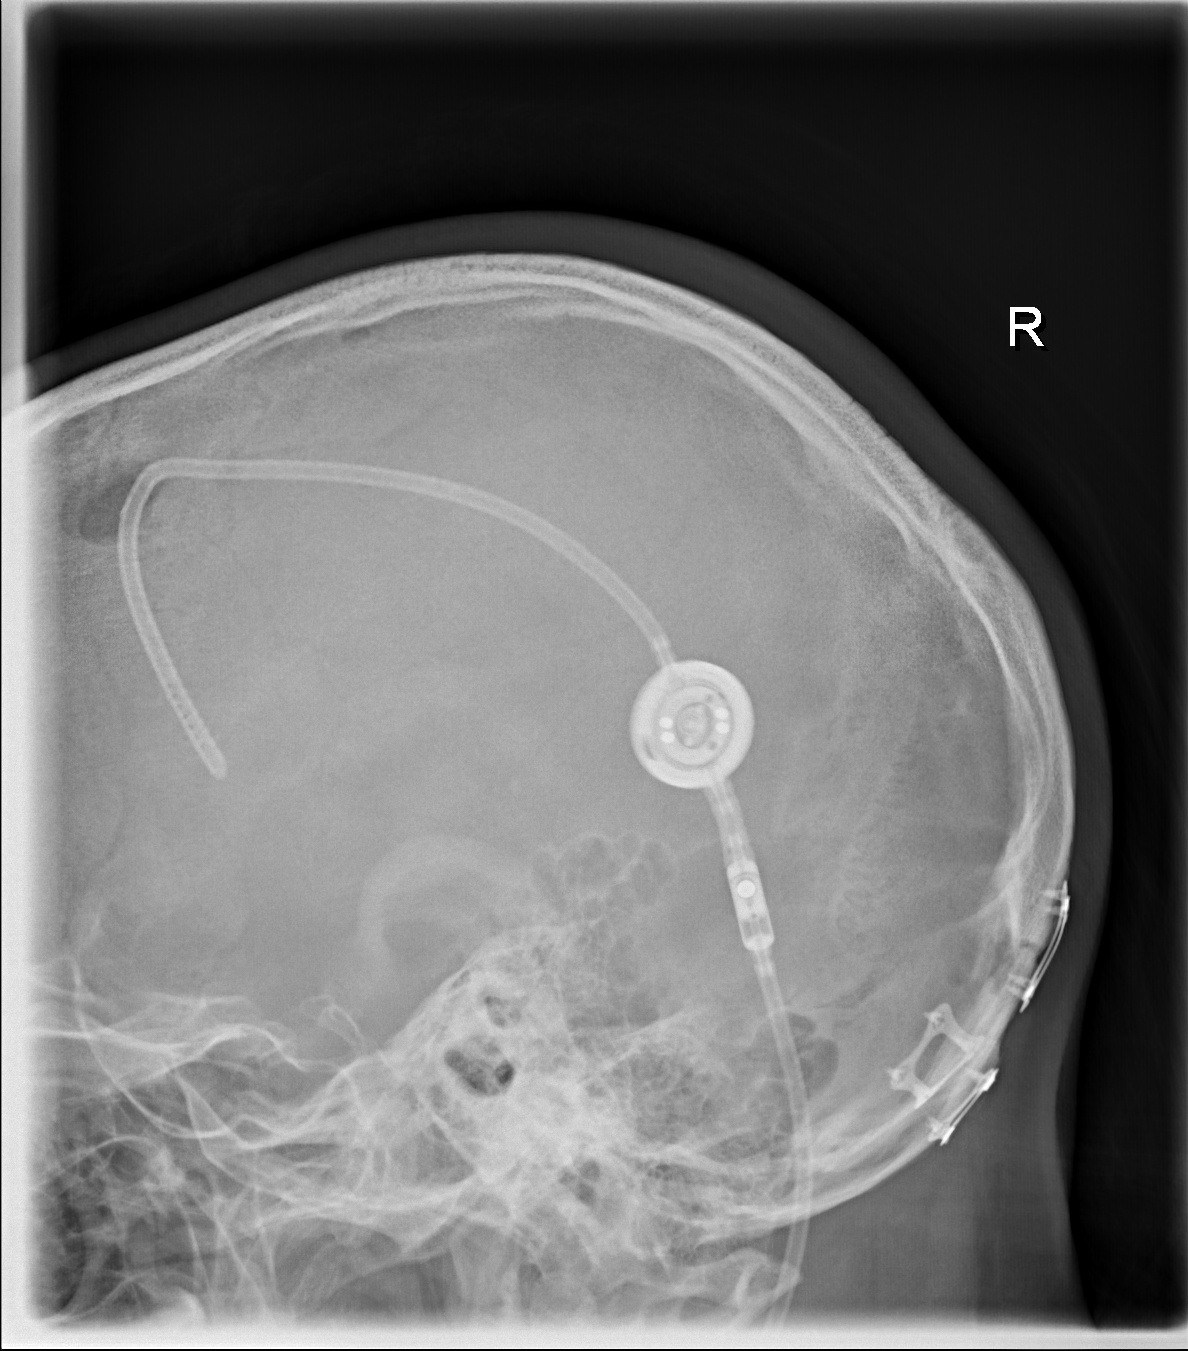proGAV 2.0: (624, 654, 764, 793)
proGAV Gravitationseinheit: (719, 833, 784, 971)
